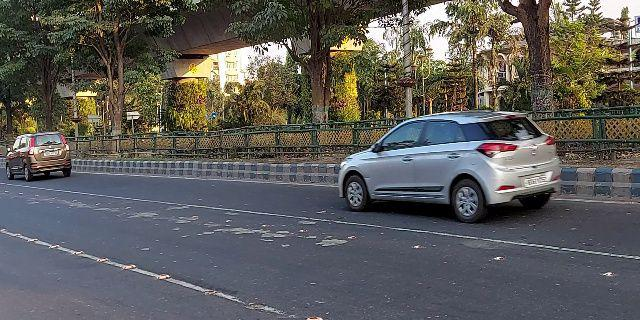Car: (333, 108, 562, 225), (5, 129, 74, 184)
